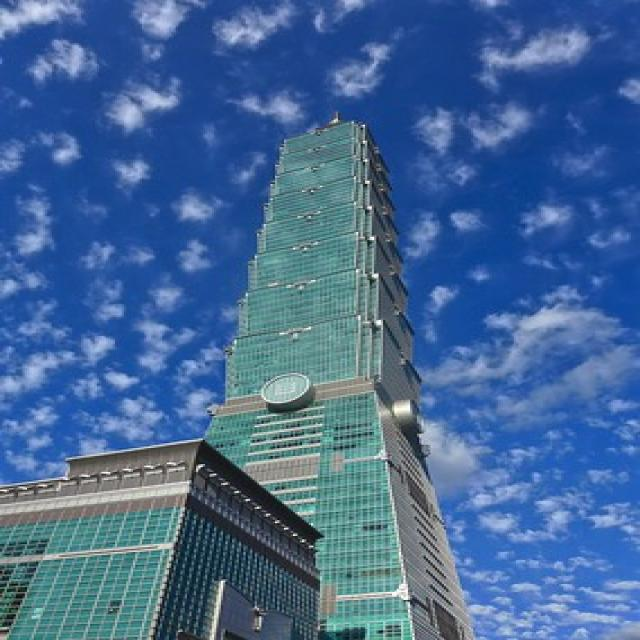Normal_building: (205, 118, 473, 640)
